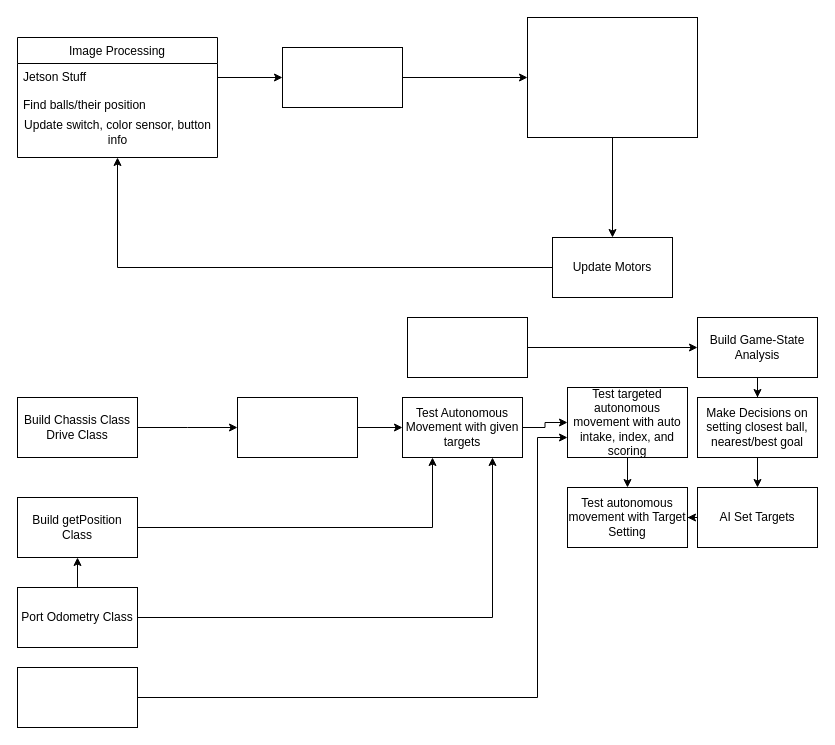
This 835x745 diagram has some shape labels left out. Here are the shapes that lost their labels. From the top down, the centre of each, then its label:
At point (342, 77): "Update Position (Odometry)".
At point (612, 77): "Analyze Game/Robot State Set Movement Targets".
At point (467, 347): "Create Robot communication + storage of jetson data".
At point (297, 427): "Test Driving/Movement".
At point (77, 697): "Build Sensor Class to recognize ball color, ball in intake, ball scored".
